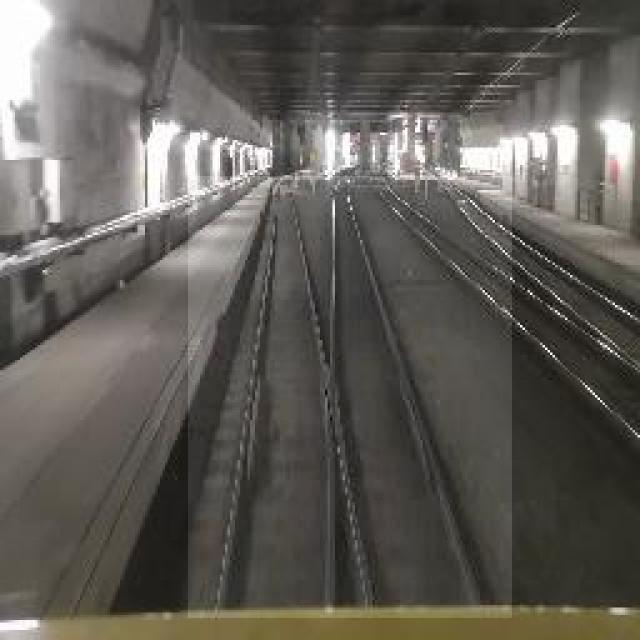rail: (190, 177, 513, 619)
